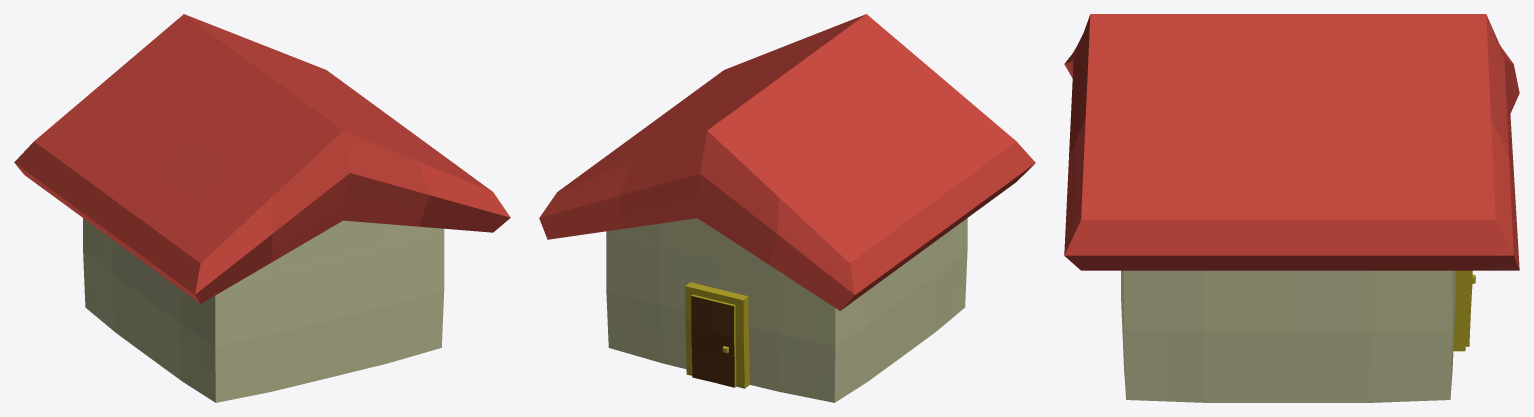
File: Casa.fbx
3 renders of one model, left to right at view 1: azimuth 30°, elevation 25°; view 2: azimuth 150°, elevation 25°; view 3: azimuth 270°, elevation 25°, orthographic. The views are drawn at different scales.
Parts seen in each view (by area): view 1: Cube; view 2: Cube; view 3: Cube.
Part boxes in pixels (x1,y1,x2,y2): Cube: [14, 14, 510, 402]; Cube: [539, 14, 1035, 402]; Cube: [1064, 14, 1519, 402].
Bounding box in the file's own units: 1061 × 833 × 1066.
